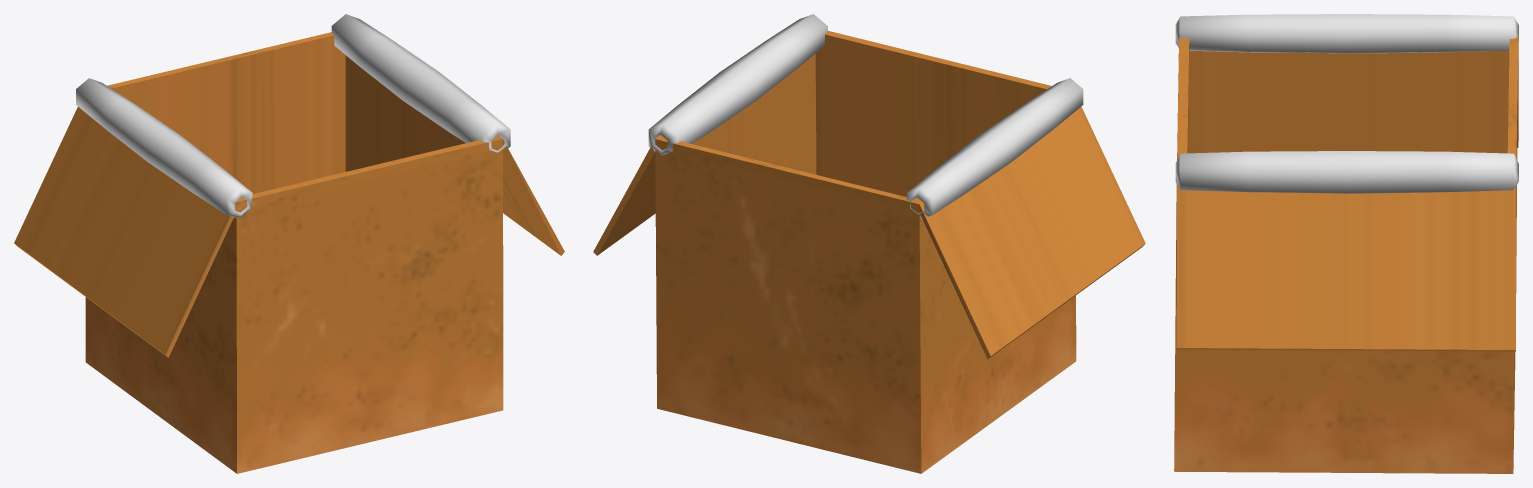
File: Box_Physics.FBX
3 renders of one model, left to right at view 1: azimuth 30°, elevation 25°; view 2: azimuth 150°, elevation 25°; view 3: azimuth 270°, elevation 25°, orthographic. The views are drawn at different scales.
Visible parts, largest first — view 1: Carton.Physic, Lid1, Ristrict2, Ristrict, Lid2; view 2: Carton.Physic, Lid1, Ristrict2, Ristrict, Lid2; view 3: Carton.Physic, Lid2, Ristrict2, Ristrict.
Boxes of the visible parts, x1,y1,x2,y2 form: Carton.Physic: (85,32,503,473); Lid1: (14,107,236,357); Ristrict2: (331,14,510,152); Ristrict: (76,78,252,218); Lid2: (503,139,564,255); Carton.Physic: (655,31,1076,473); Lid1: (919,106,1145,358); Ristrict2: (648,14,827,155); Ristrict: (906,78,1083,218); Lid2: (593,146,655,255); Carton.Physic: (1174,36,1518,473); Lid2: (1176,184,1516,351); Ristrict2: (1175,151,1518,193); Ristrict: (1175,14,1518,53).
Size of the model in its own units: 67.63 by 46.56 by 45.51.
1 material, 1 textured.
